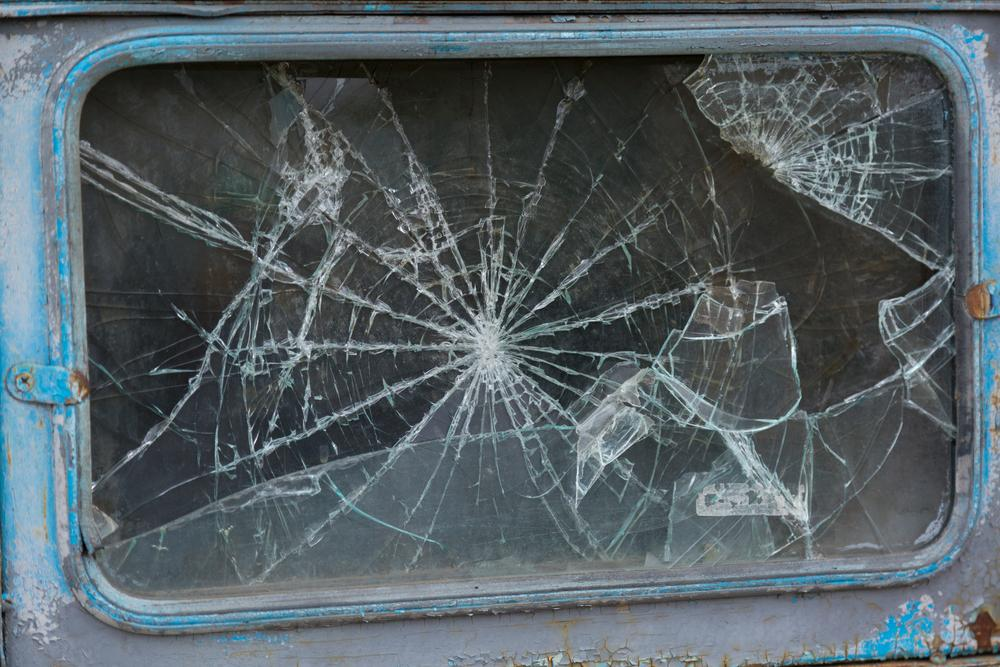glass shatter: (80, 52, 954, 589)
